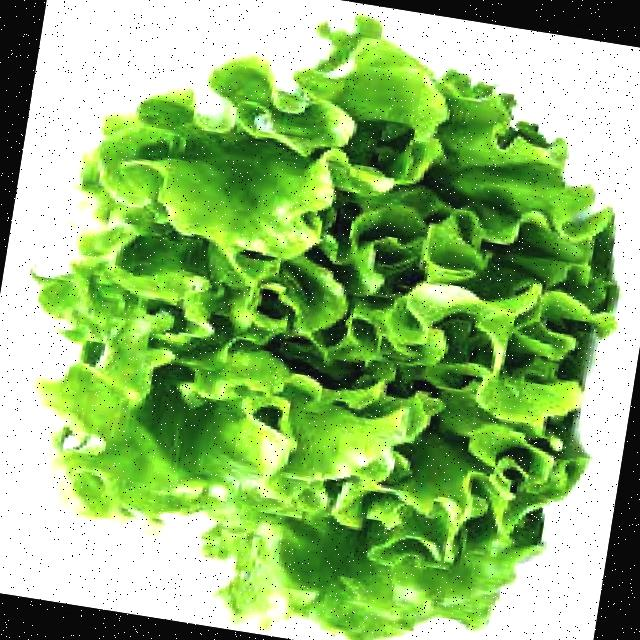healthy: (64, 63, 606, 590)
